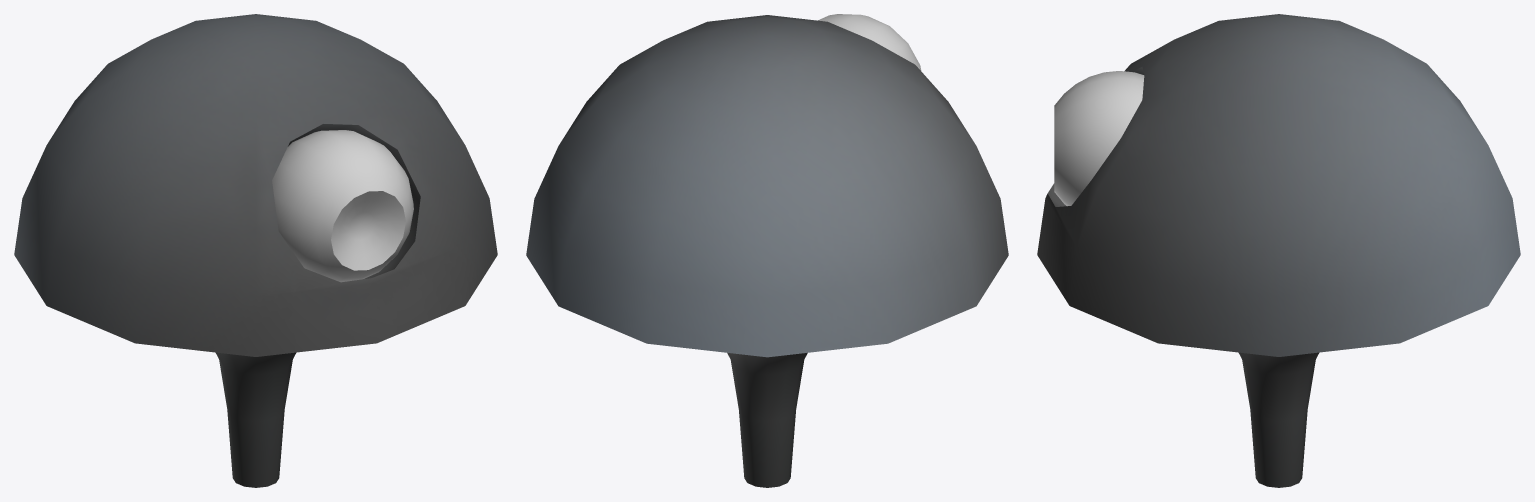
File: One_Eye_03.fbx
3 renders of one model, left to right at view 1: azimuth 30°, elevation 25°; view 2: azimuth 150°, elevation 25°; view 3: azimuth 270°, elevation 25°, orthographic.
Visible parts, largest first — view 1: One_Eye_03, Eye_04; view 2: One_Eye_03, Eye_04; view 3: One_Eye_03, Eye_04.
Part boxes in pixels (x1=…): One_Eye_03: x1=14, y1=14, x2=497, y2=487; Eye_04: x1=272, y1=130, x2=413, y2=282; One_Eye_03: x1=526, y1=15, x2=1008, y2=487; Eye_04: x1=818, y1=14, x2=921, y2=70; One_Eye_03: x1=1037, y1=14, x2=1520, y2=487; Eye_04: x1=1054, y1=71, x2=1144, y2=206.
Bounding box in the file's own units: 18.1 × 18.27 × 18.1.
